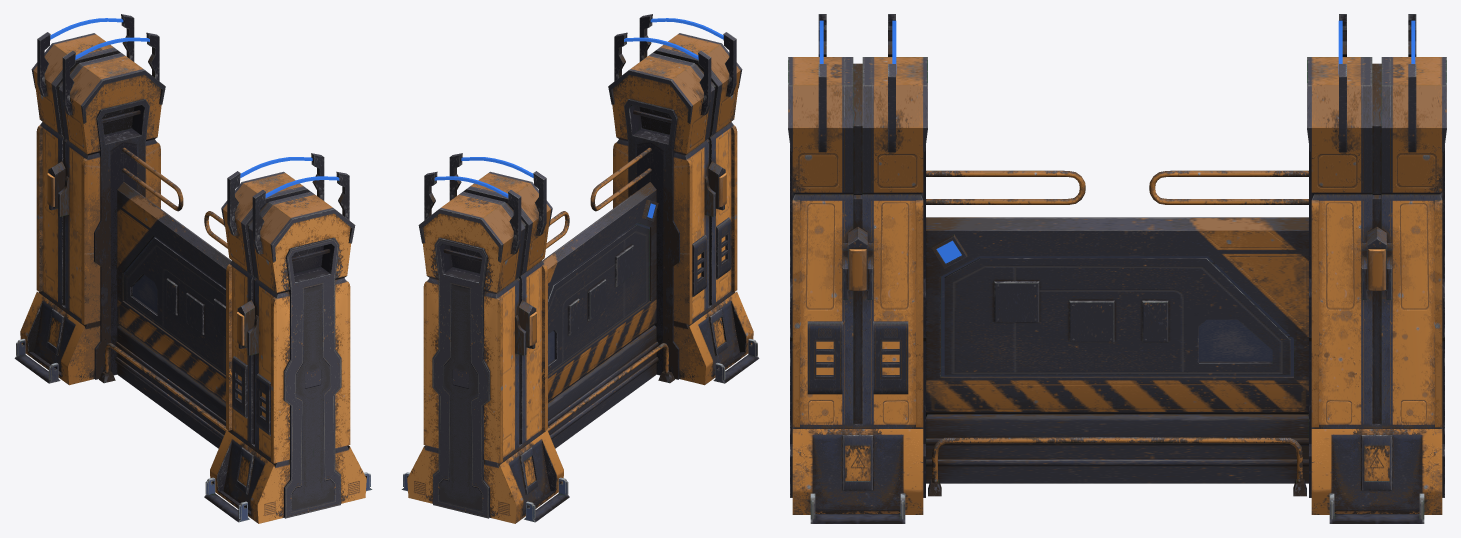
File: SciFiSmallStructure.glb
3 views of the same model, side by side, from view 1: azimuth 30°, elevation 25°; view 2: azimuth 150°, elevation 25°; view 3: azimuth 270°, elevation 25° (orthographic). The views are drawn at different scales.
Visible parts, largest first — view 1: Small-Structure-Posts, Small-Structure-Door; view 2: Small-Structure-Posts, Small-Structure-Door; view 3: Small-Structure-Door, Small-Structure-Posts.
Boxes of the visible parts, left/top/right/bottom form: Small-Structure-Posts: left=20, top=14, right=366, bottom=523; Small-Structure-Door: left=14, top=18, right=372, bottom=522; Small-Structure-Posts: left=407, top=14, right=753, bottom=523; Small-Structure-Door: left=401, top=18, right=759, bottom=522; Small-Structure-Door: left=807, top=20, right=1424, bottom=523; Small-Structure-Posts: left=788, top=14, right=1446, bottom=514.
Size of what is drawn, in the model's own units: 5.22 by 12.04 by 16.23.
2 materials, 2 textured.
